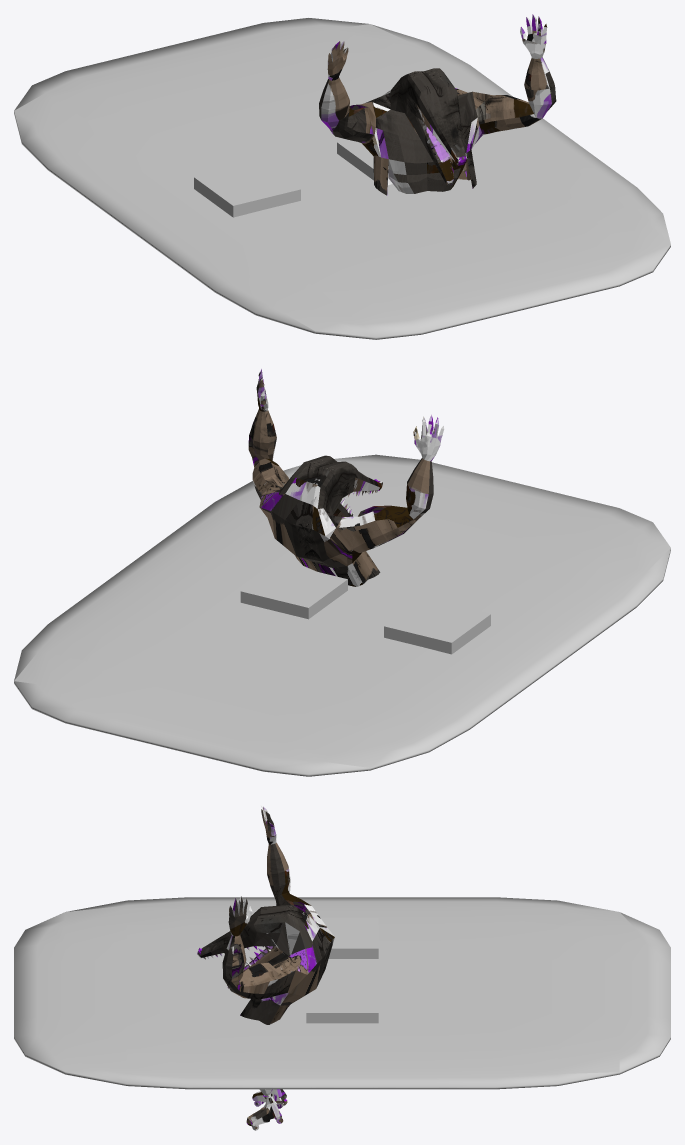
Rendered from cocodrilaBonesSelect_000036.obj.
The picture shows the model from 3 angles, top to bottom: view 1: azimuth 30°, elevation 25°; view 2: azimuth 150°, elevation 25°; view 3: azimuth 270°, elevation 25°; orthographic projection. The views are drawn at different scales.
Parts seen in each view (by area): view 1: Mball, Crocodile.002_Cylinder.002, Cube, Cube.001; view 2: Mball, Crocodile.002_Cylinder.002, Cube, Cube.001; view 3: Mball, Crocodile.002_Cylinder.002, Cube.001, Cube.
Part boxes in pixels (x1,y1,x2,y2): Mball: (14,18,670,339); Crocodile.002_Cylinder.002: (319,14,556,195); Cube: (194,160,300,217); Cube.001: (337,139,373,180); Mball: (14,454,670,776); Crocodile.002_Cylinder.002: (248,369,444,586); Cube: (384,597,490,654); Cube.001: (240,562,347,619); Mball: (14,897,670,1089); Crocodile.002_Cylinder.002: (197,806,334,1130); Cube.001: (306,982,378,1023); Cube: (321,918,378,958).
Size of the model in its own units: 12.42 by 8.33 by 18.18.
